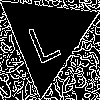L: (22, 12, 63, 65)
